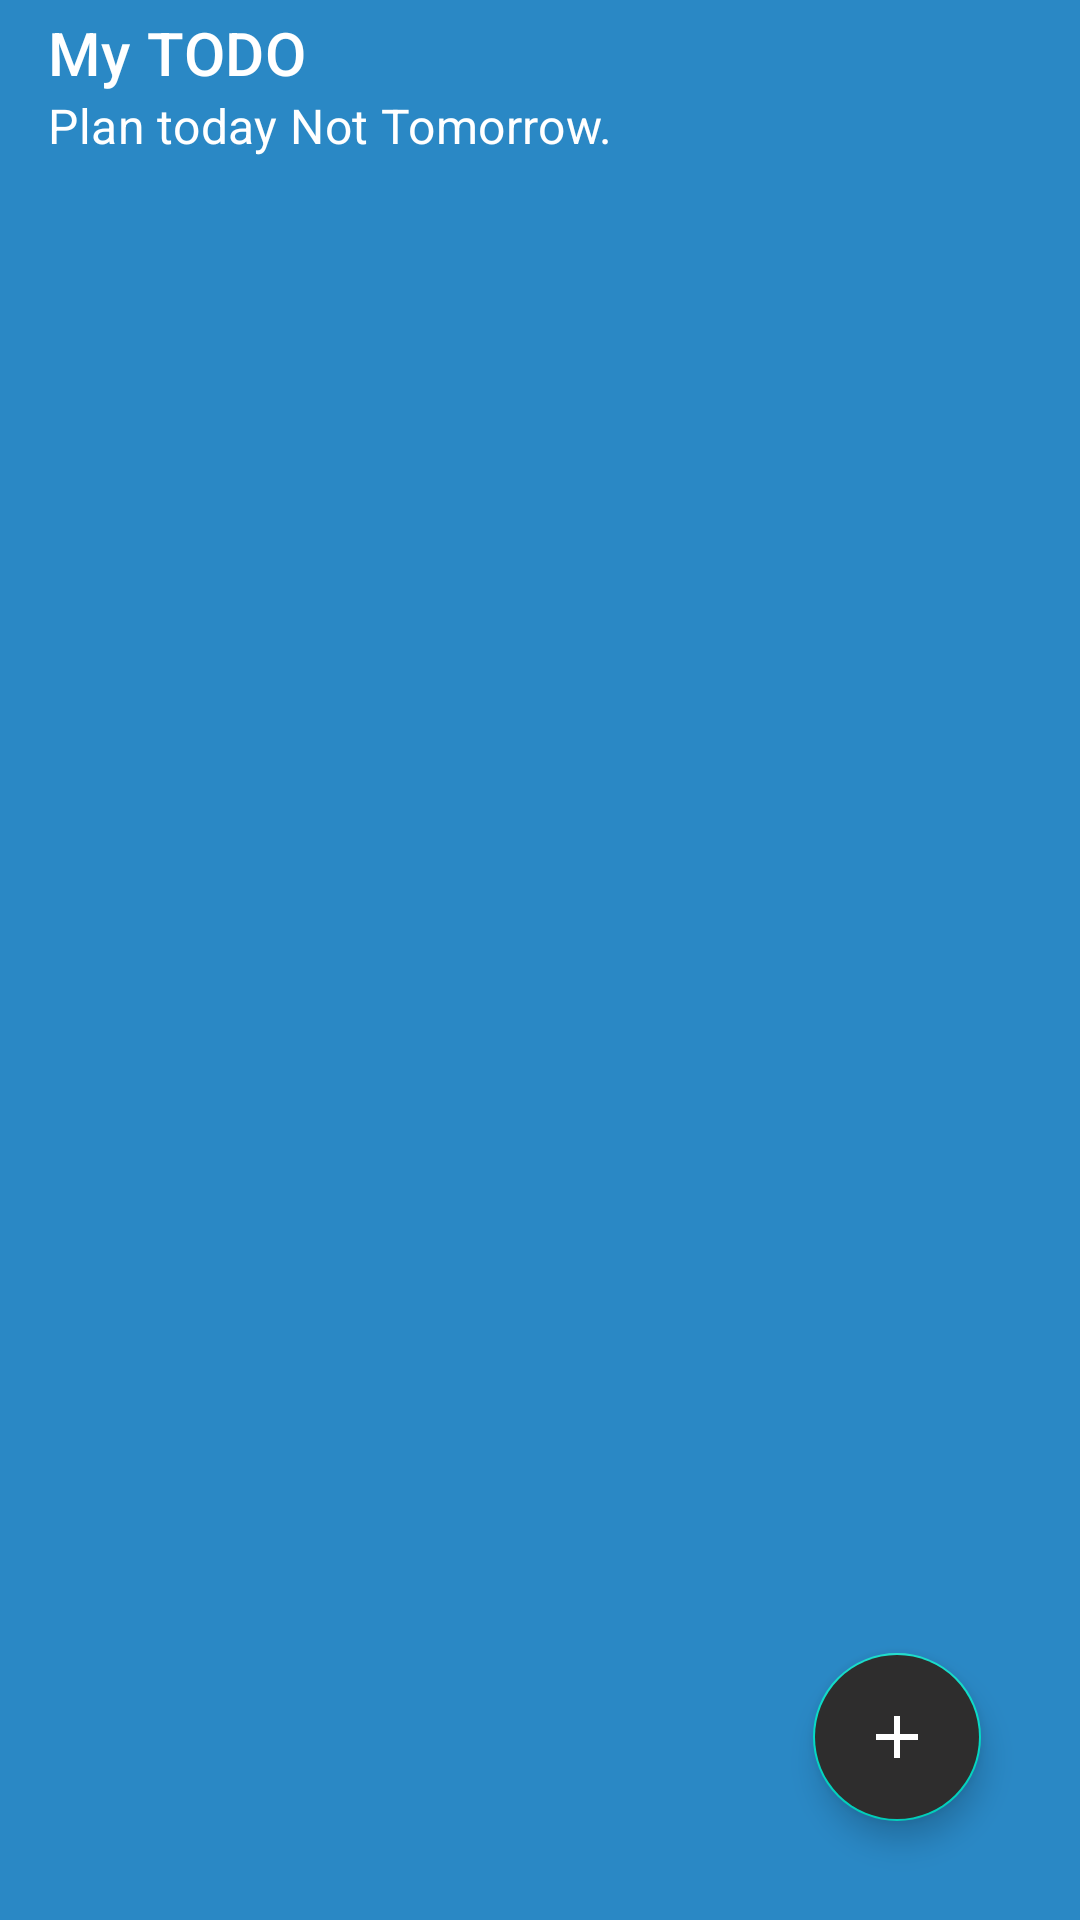

Screen size 1080*1920. Icon name, then its center in pixels as point (x, y):
add: point (897, 1737)
